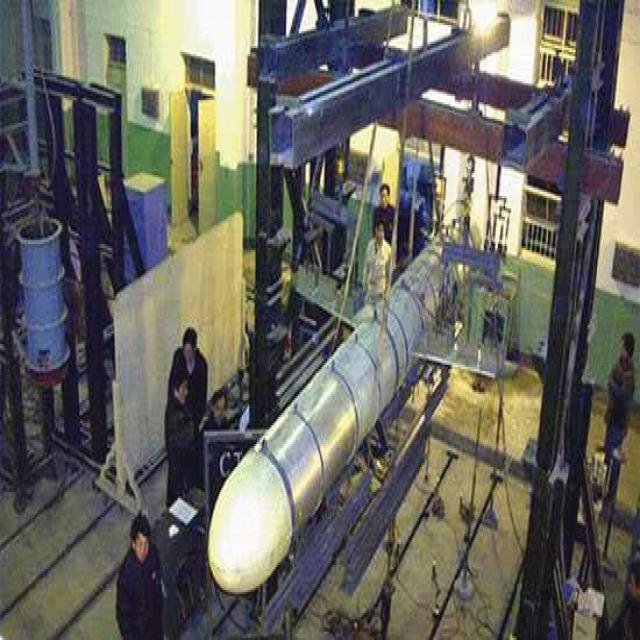missile: (208, 212, 504, 603)
